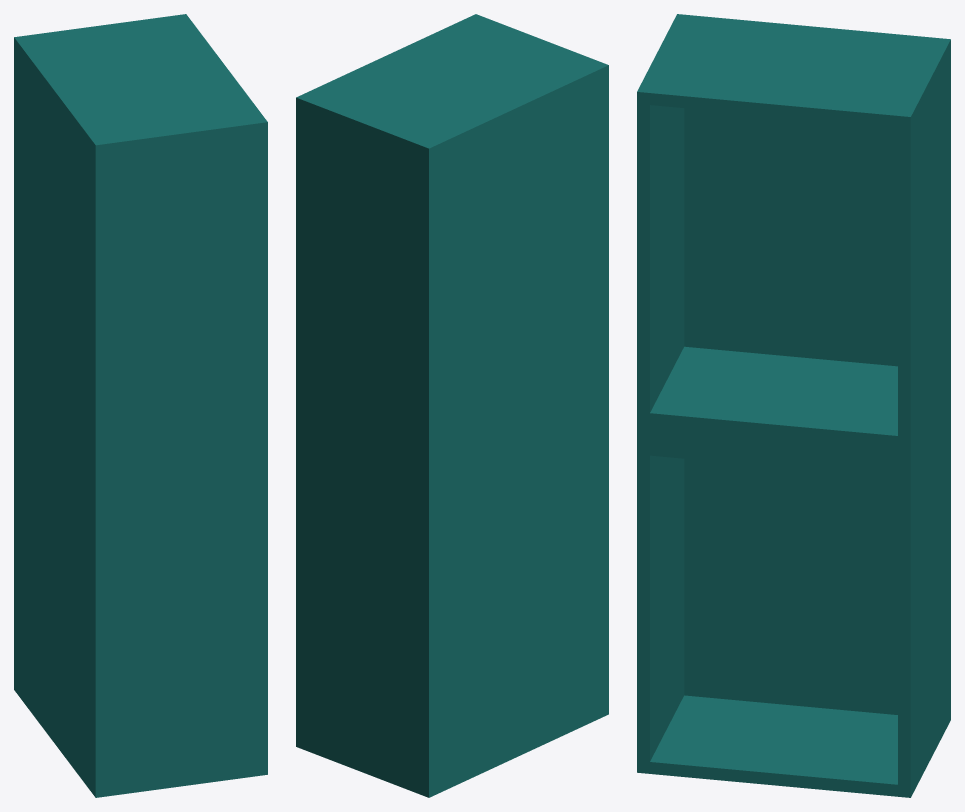
The model's file is Locker.fbx.
The picture shows the model from 3 angles, left to right: view 1: azimuth 30°, elevation 25°; view 2: azimuth 150°, elevation 25°; view 3: azimuth 270°, elevation 25°; orthographic projection. The views are drawn at different scales.
Parts seen in each view (by area): view 1: Locker; view 2: Locker; view 3: Locker.
Part boxes in pixels (x1,y1,x2,y2): Locker: [14, 14, 267, 797]; Locker: [296, 14, 608, 797]; Locker: [637, 14, 950, 797].
Size of the model in its own units: 259 by 797 by 333.
